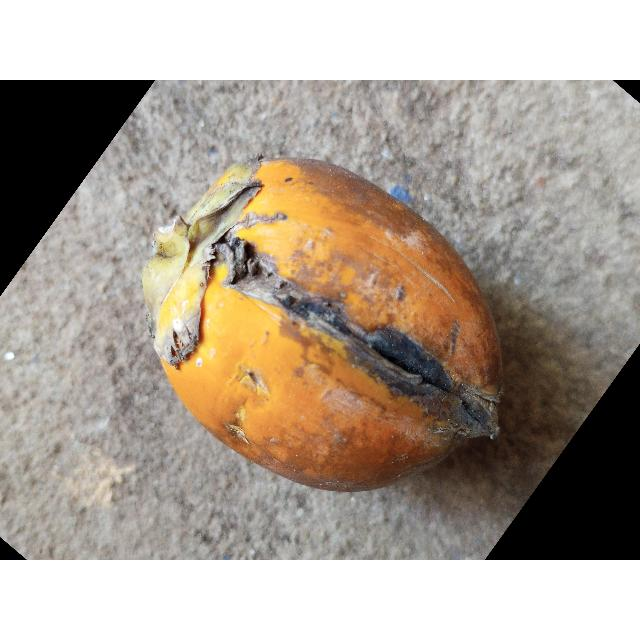damaged: (141, 158, 502, 495)
